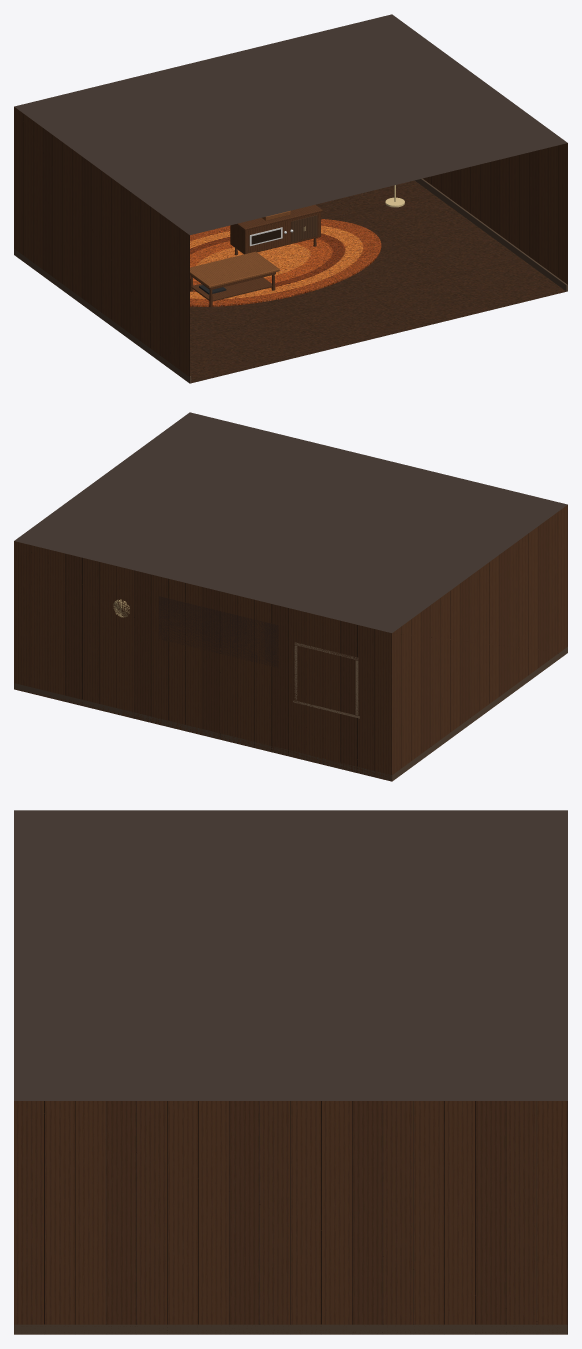
Rendered from basement.glb.
The picture shows the model from 3 angles, top to bottom: view 1: azimuth 30°, elevation 25°; view 2: azimuth 150°, elevation 25°; view 3: azimuth 270°, elevation 25°; orthographic projection. The views are drawn at different scales.
Parts seen in each view (by area): view 1: Ceiling, Floor, LeftWall, RightWall, Rug, TableTop, ConsoleBody, Baseboard_R, Baseboard_L, TableShelf, ConsoleTop, Doors; view 2: Ceiling, BackWall, LeftWall, NeonBacker, Baseboard_B, Baseboard_L; view 3: Ceiling, RightWall, Baseboard_R.
Part boxes in pixels (left/top/right/bottom): Ceiling: left=14, top=14, right=567, bottom=234; Floor: left=190, top=180, right=566, bottom=383; LeftWall: left=14, top=107, right=189, bottom=383; RightWall: left=423, top=143, right=567, bottom=284; Rug: left=190, top=219, right=381, bottom=306; TableTop: left=190, top=251, right=279, bottom=288; ConsoleBody: left=230, top=212, right=320, bottom=254; Baseboard_R: left=415, top=178, right=567, bottom=291; Baseboard_L: left=14, top=249, right=191, bottom=383; TableShelf: left=191, top=277, right=272, bottom=301; ConsoleTop: left=236, top=204, right=322, bottom=230; Doors: left=291, top=215, right=317, bottom=242; Ceiling: left=14, top=412, right=567, bottom=632; BackWall: left=14, top=541, right=391, bottom=781; LeftWall: left=392, top=505, right=567, bottom=781; NeonBacker: left=159, top=596, right=278, bottom=666; Baseboard_B: left=15, top=683, right=392, bottom=780; Baseboard_L: left=390, top=647, right=567, bottom=780; Ceiling: left=14, top=810, right=567, bottom=1100; RightWall: left=14, top=1101, right=567, bottom=1334; Baseboard_R: left=14, top=1324, right=567, bottom=1334.
Bounding box in the file's own units: 7.2 × 2.7 × 5.8.
Materials: 29 (11 with a texture image).
